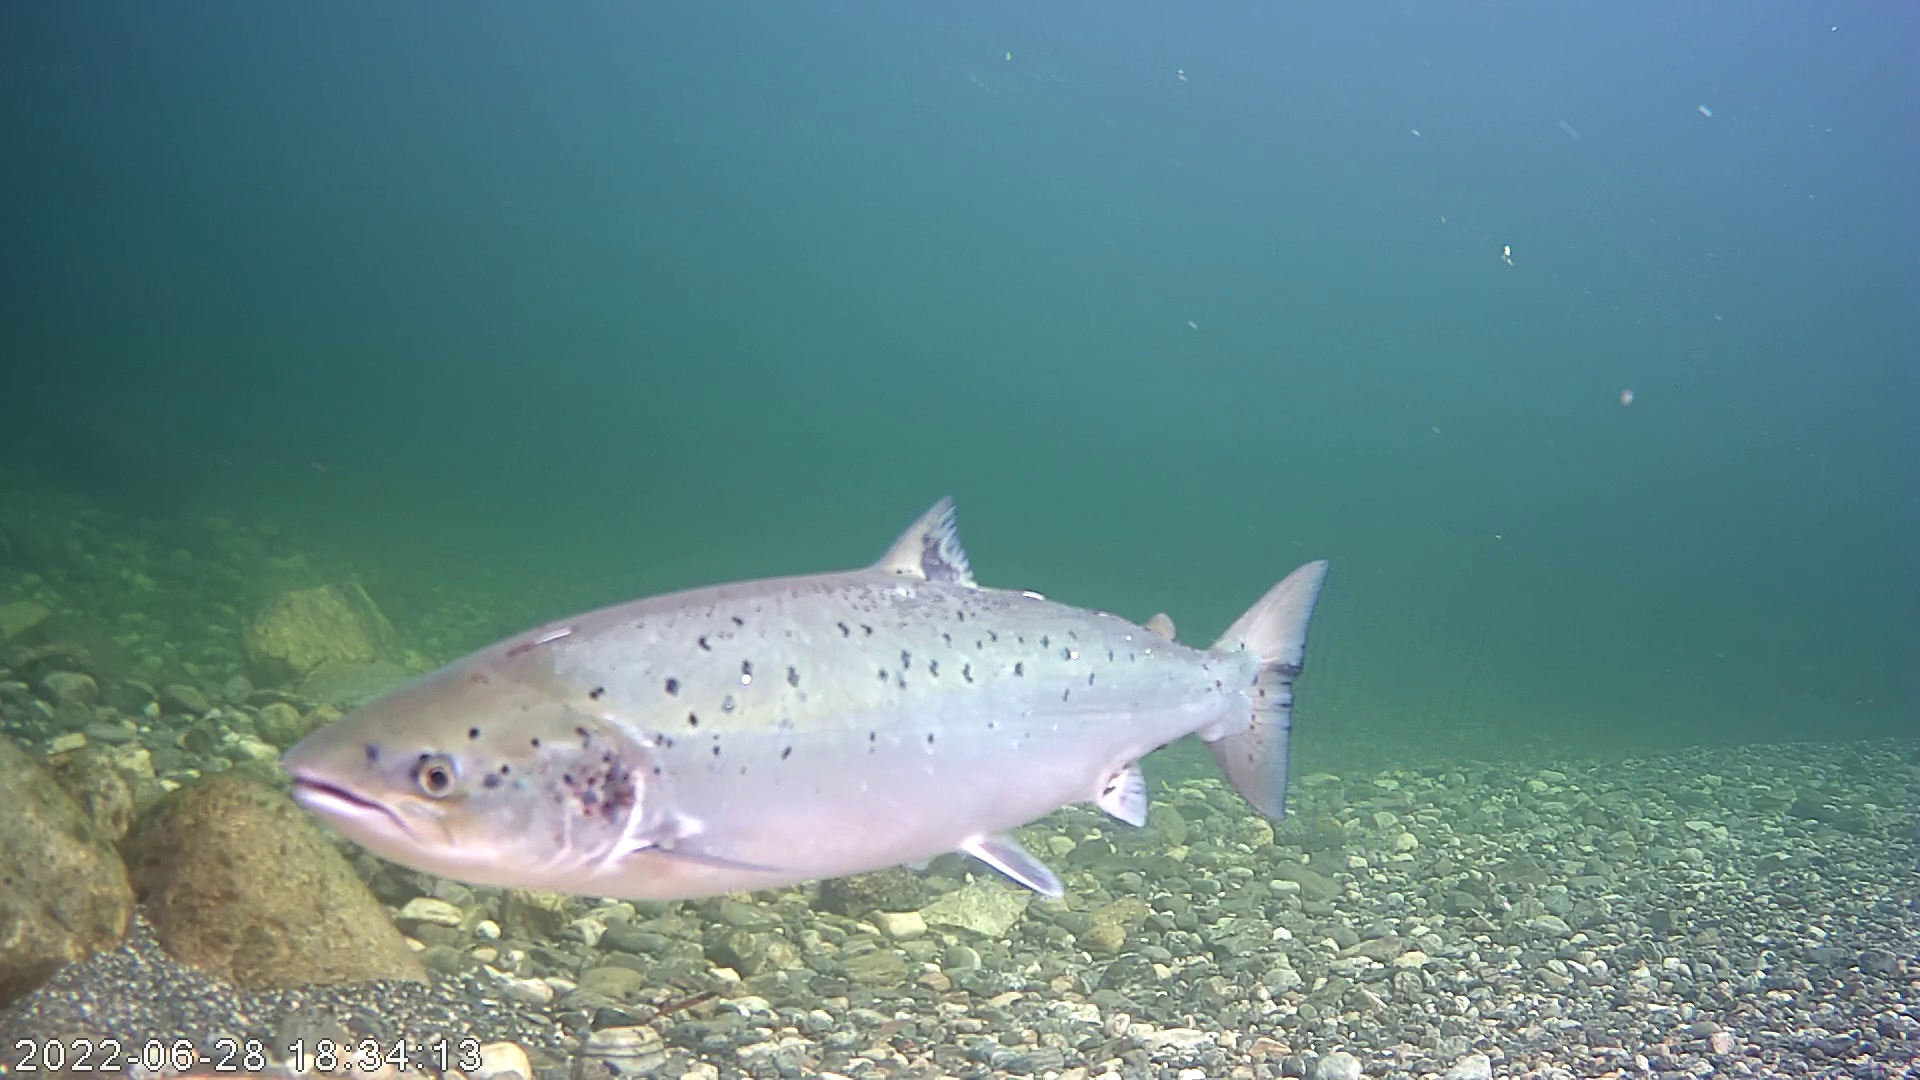salmon: (266, 460, 1338, 939)
